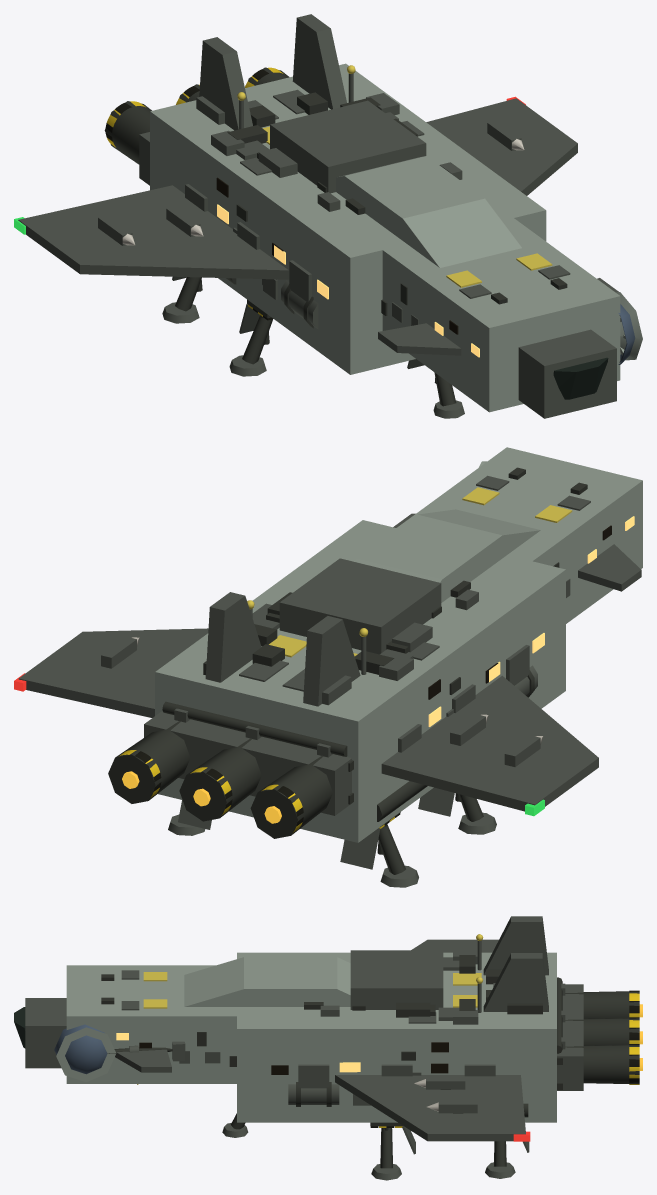
The model's file is trader-l.glb.
The picture shows the model from 3 angles, top to bottom: view 1: azimuth 30°, elevation 25°; view 2: azimuth 150°, elevation 25°; view 3: azimuth 270°, elevation 25°; orthographic projection. The views are drawn at different scales.
Parts seen in each view (by area): view 1: hullMain, hullNose, wingLeft, canopyFairing, dorsalCargoBlister, wingRight, hullNoseTip, stabilizerFinR, stabilizerFinL, canardLeft, engineHousing, cockpitGlass (+5 smaller); view 2: hullMain, hullNose, wingLeft, engineHousing (×3), dorsalCargoBlister, wingRight, canopyFairing, engineBayExtension, stabilizerFinR, stabilizerFinL, missileBody (×3), propellantHeader (+7 smaller); view 3: hullMain, hullNose, wingRight, canopyFairing, dorsalCargoBlister, engineHousing (×3), stabilizerFinR, hullNoseTip, engineBayExtension, stabilizerFinL, commDish, commDishBackshell (+11 smaller).
Boxes of the visible parts, x1,y1,x2,y2 form: hullMain: (150,63,546,374); hullNose: (373,211,620,412); wingLeft: (18,185,288,279); canopyFairing: (336,156,521,267); dorsalCargoBlister: (270,100,426,193); wingRight: (426,98,577,195); hullNoseTip: (518,329,616,418); stabilizerFinR: (292,14,346,109); stabilizerFinL: (199,37,252,130); canardLeft: (378,323,461,355); engineHousing: (104,101,151,164); cockpitGlass: (553,357,608,399); hullMain: (155,520,565,842); hullNose: (387,447,642,623); wingLeft: (381,675,598,811); engineHousing (×3): (108,721,332,838); dorsalCargoBlister: (279,558,441,654); wingRight: (18,628,208,717); canopyFairing: (355,509,540,602); engineBayExtension: (144,711,351,815); stabilizerFinR: (205,592,261,682); stabilizerFinL: (303,616,360,706); missileBody (×3): (101,636,540,766); propellantHeader: (162,701,347,756); hullMain: (237,952,556,1122); hullNose: (66,965,250,1083); wingRight: (335,1075,525,1141); canopyFairing: (184,957,350,1006); dorsalCargoBlister: (350,950,443,1009); engineHousing (×3): (565,991,639,1084); stabilizerFinR: (483,953,548,1011); hullNoseTip: (25,998,66,1068); engineBayExtension: (557,984,583,1090); stabilizerFinL: (483,916,548,975); commDish: (54,1024,107,1074); commDishBackshell: (56,1027,116,1082).
Bounding box in the file's own units: 4.48 × 2.08 × 6.09.
